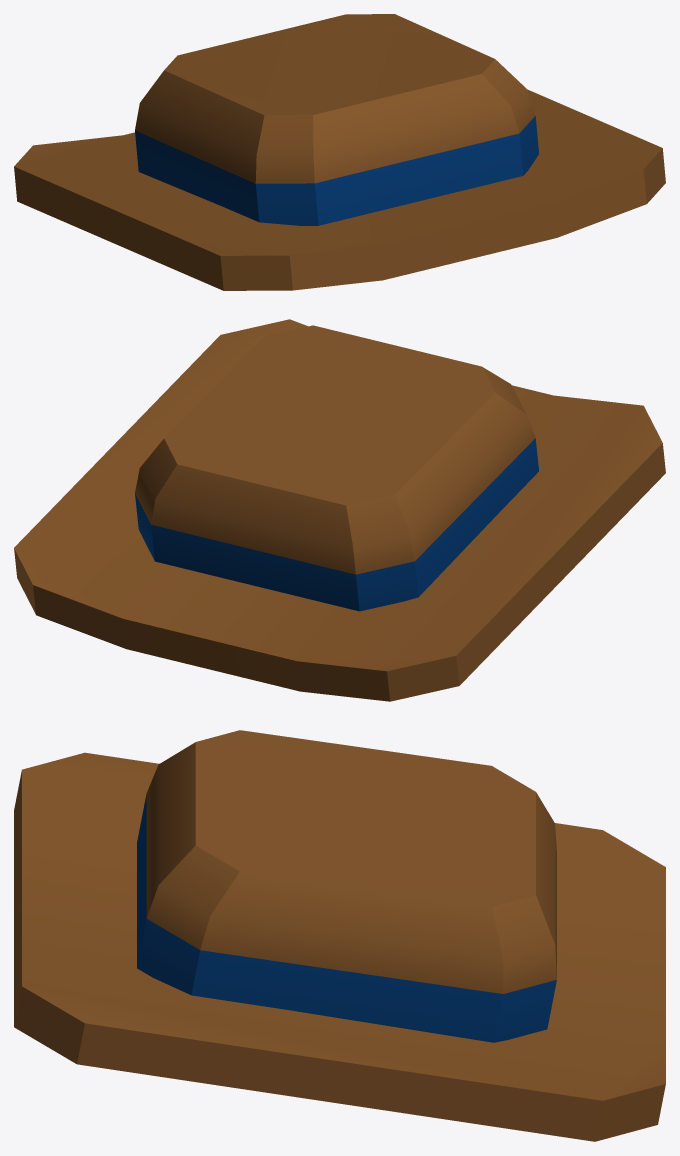
Rendered from Hat 04.FBX.
3 renders of one model, top to bottom at view 1: azimuth 30°, elevation 25°; view 2: azimuth 150°, elevation 25°; view 3: azimuth 270°, elevation 25°, orthographic. The views are drawn at different scales.
Visible parts, largest first — view 1: Hat 04; view 2: Hat 04; view 3: Hat 04.
Boxes of the visible parts, x1,y1,x2,y2 form: Hat 04: (14,14,665,290); Hat 04: (14,319,665,701); Hat 04: (14,730,665,1141).
Bounding box in the file's own units: 93.82 × 38.41 × 95.48.
Materials: 1 (1 with a texture image).
